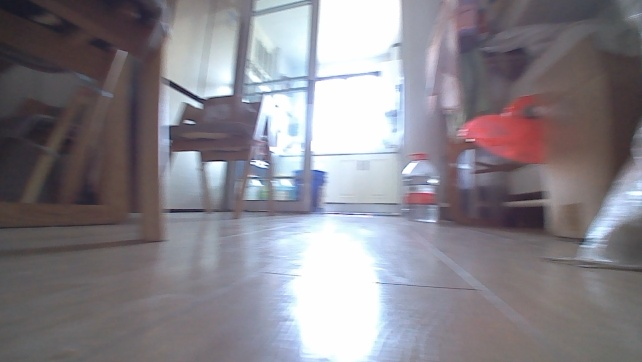cupboard: (320, 150, 400, 214)
